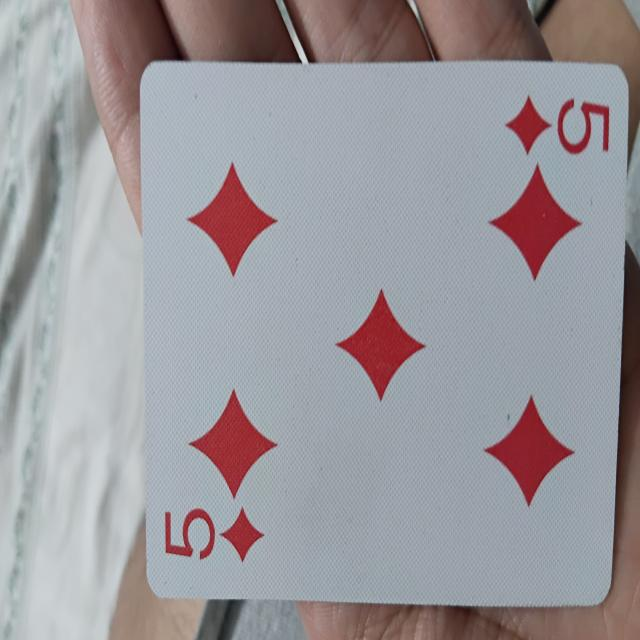5D: (140, 60, 613, 602)
